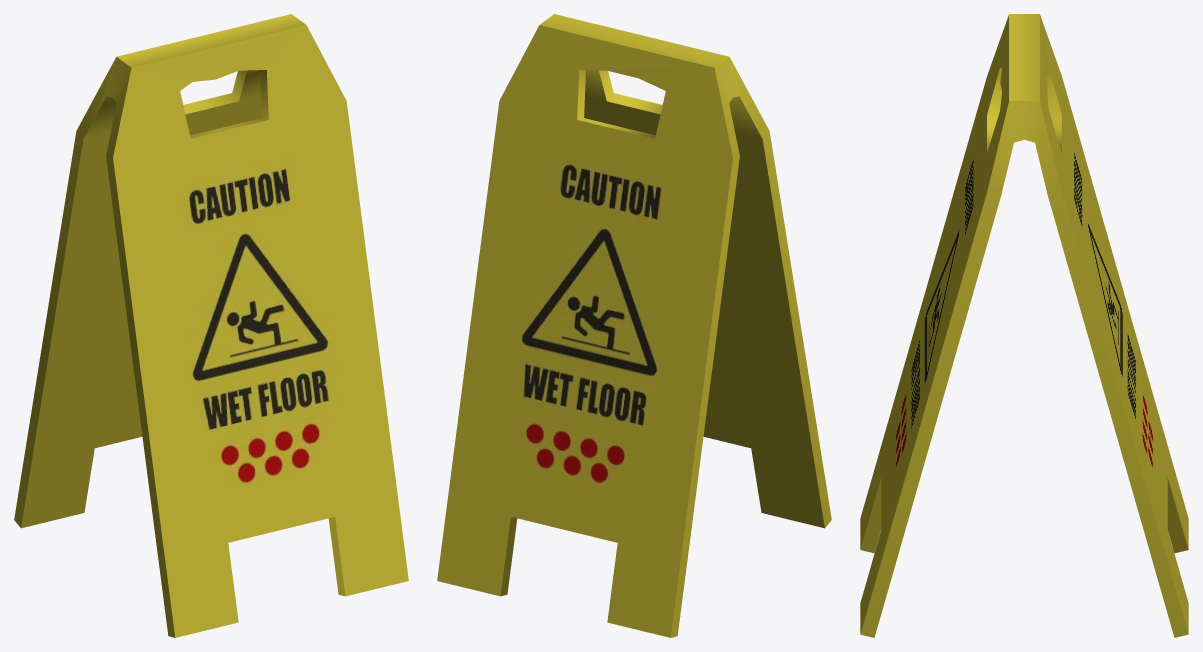
Rendered from WetFloorSign_01.glb.
The picture shows the model from 3 angles, left to right: view 1: azimuth 30°, elevation 25°; view 2: azimuth 150°, elevation 25°; view 3: azimuth 270°, elevation 25°; orthographic projection.
Visible parts, largest first — view 1: WetFloorSign_01; view 2: WetFloorSign_01; view 3: WetFloorSign_01.
Boxes of the visible parts, bbox=[...] form: WetFloorSign_01: bbox=[14, 14, 408, 637]; WetFloorSign_01: bbox=[437, 14, 831, 637]; WetFloorSign_01: bbox=[860, 14, 1188, 637].
Size of the model in its own units: 0.3001 by 0.6295 by 0.3585.
Materials: 1 (1 with a texture image).
